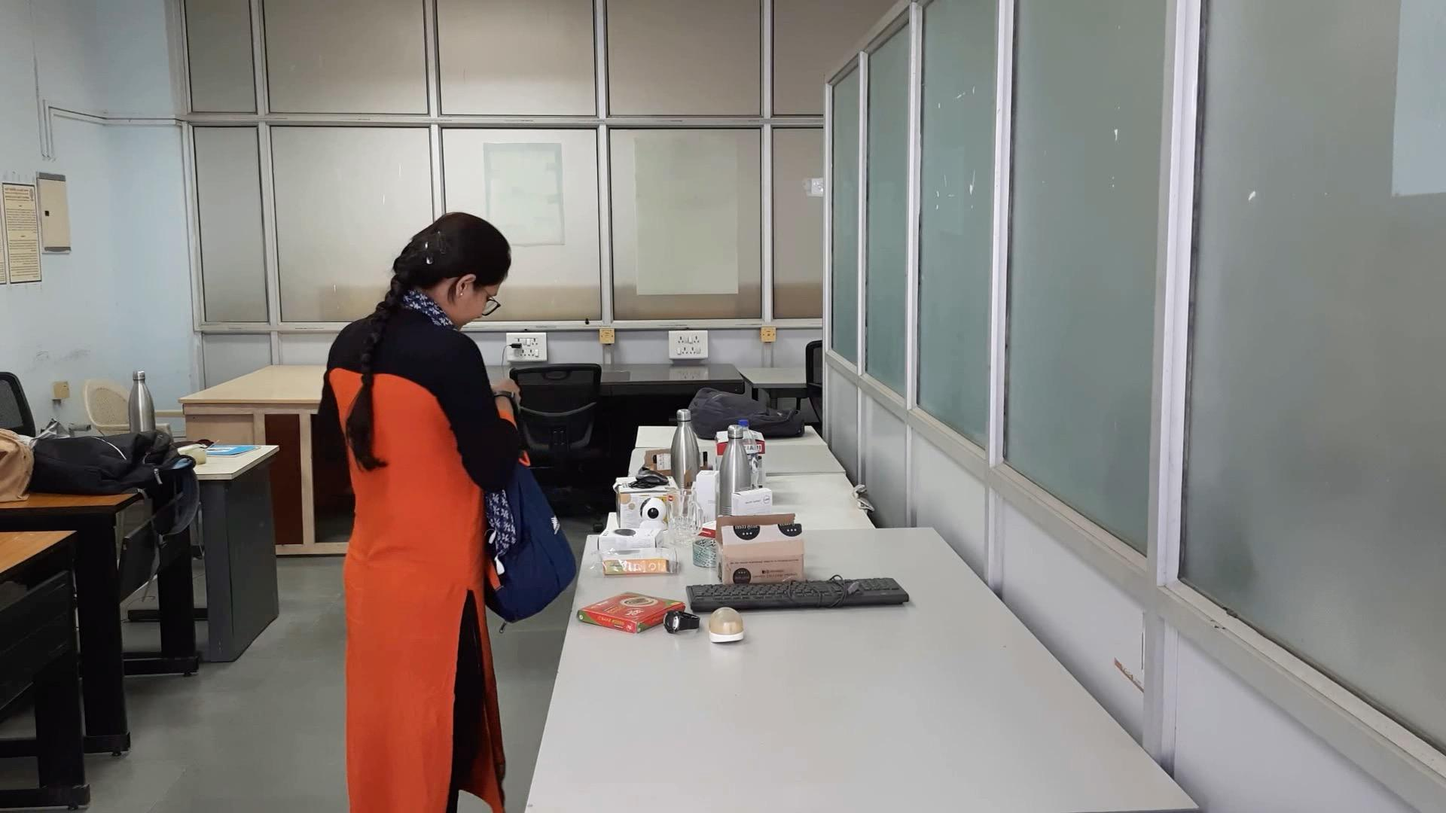shoplifting: (253, 316, 704, 693)
